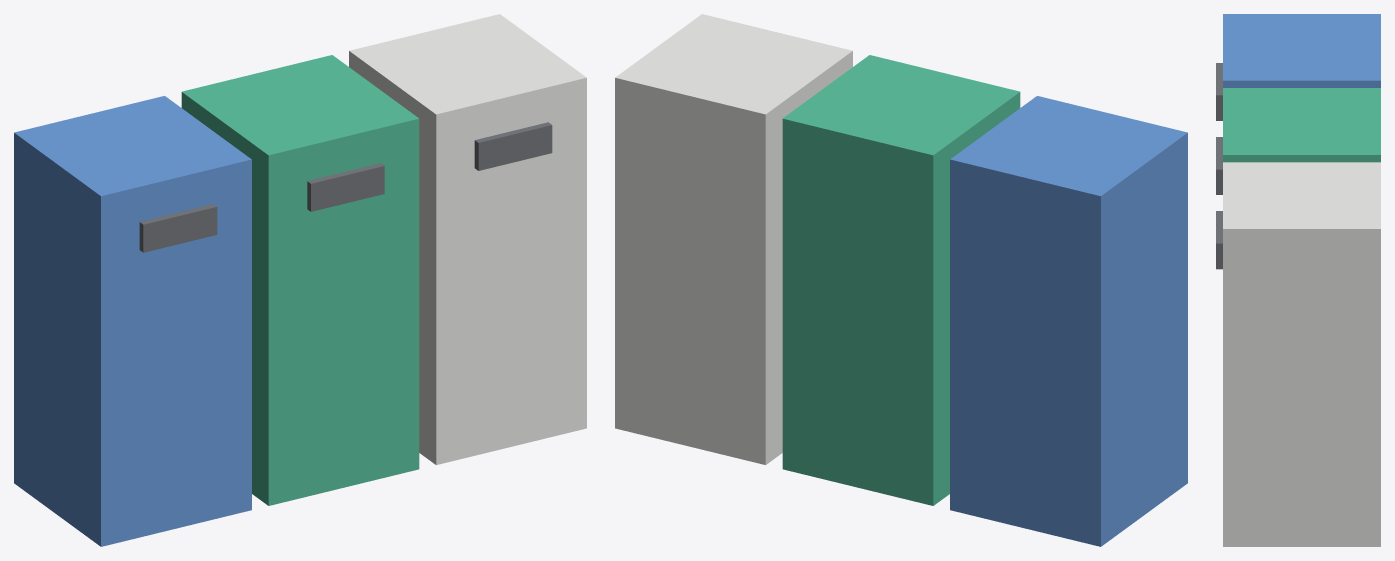
The model's file is recycle_bins.glb.
3 views of the same model, side by side, from view 1: azimuth 30°, elevation 25°; view 2: azimuth 150°, elevation 25°; view 3: azimuth 270°, elevation 25° (orthographic). The views are drawn at different scales.
Parts seen in each view (by area): view 1: recycle_bins; view 2: recycle_bins; view 3: recycle_bins.
Part boxes in pixels (x1=…): recycle_bins: x1=14, y1=14, x2=586, y2=546; recycle_bins: x1=615, y1=14, x2=1187, y2=546; recycle_bins: x1=1216, y1=14, x2=1380, y2=546.
Bounding box in the file's own units: 1.45 × 1 × 0.47.
